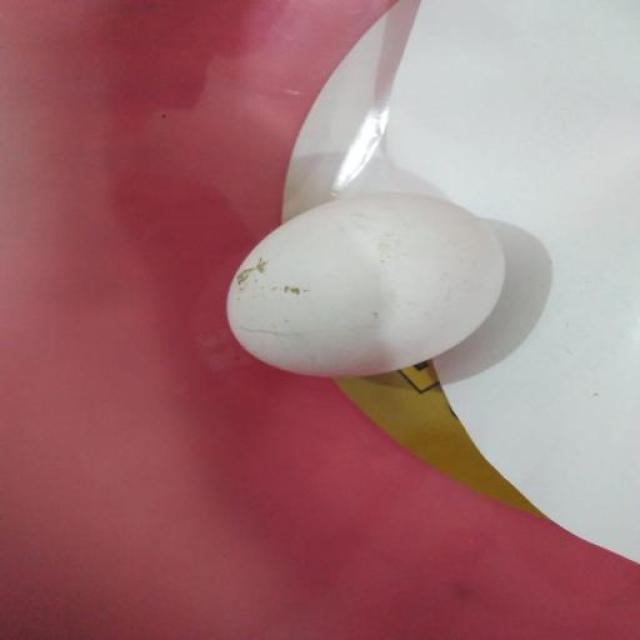telur: (225, 190, 506, 377)
